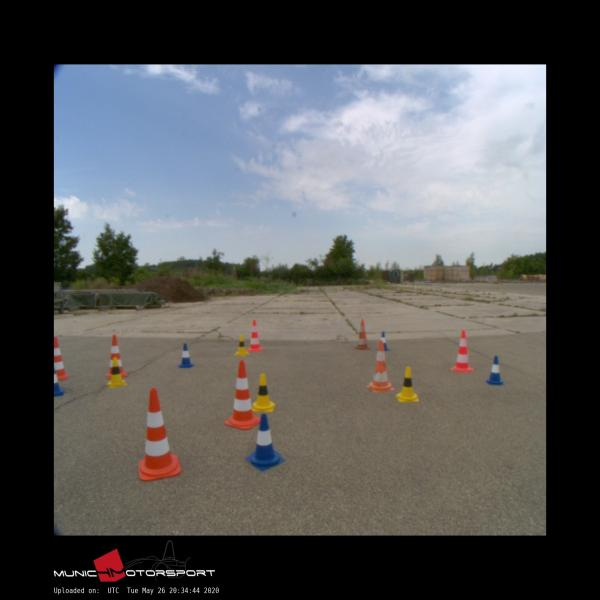blue_cone: (247, 414, 284, 470), (485, 356, 504, 384), (178, 343, 192, 367), (54, 368, 64, 397), (378, 332, 388, 350)
large_orange_cone: (138, 388, 180, 481), (225, 361, 260, 429), (366, 341, 394, 391), (450, 330, 473, 371), (106, 334, 126, 376), (54, 337, 68, 379), (247, 319, 262, 351), (355, 318, 370, 350)
yellow_cone: (252, 373, 275, 411), (395, 366, 418, 401), (106, 357, 126, 387), (235, 334, 248, 355)
